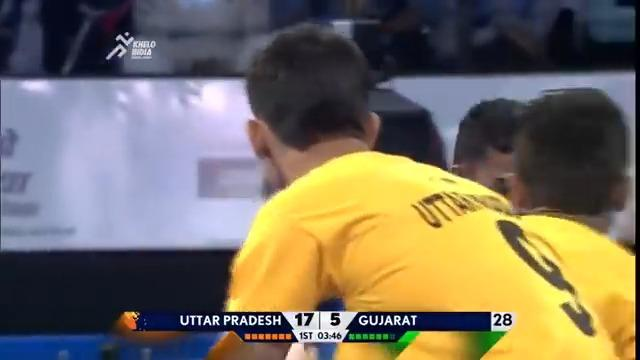Player: (202, 23, 634, 358)
referee: (501, 86, 633, 244)
